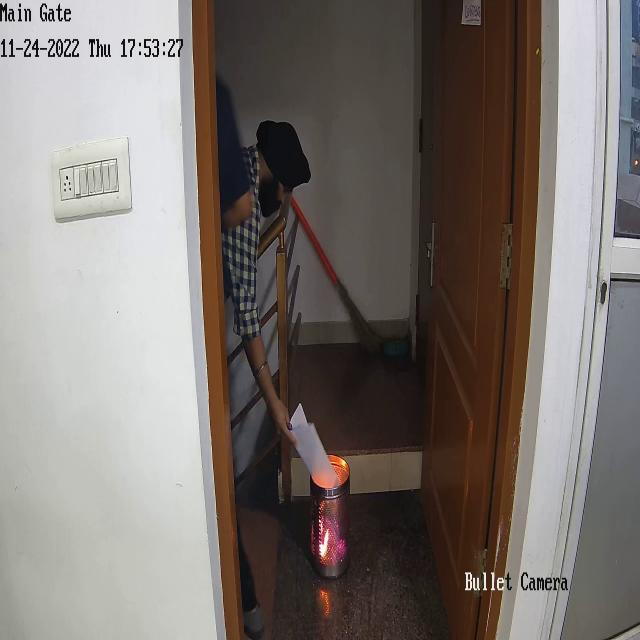fire: (316, 496, 341, 570)
smoke: (230, 15, 302, 94), (366, 29, 407, 144), (301, 23, 339, 124), (314, 306, 341, 441), (354, 376, 390, 442), (317, 152, 339, 227)
